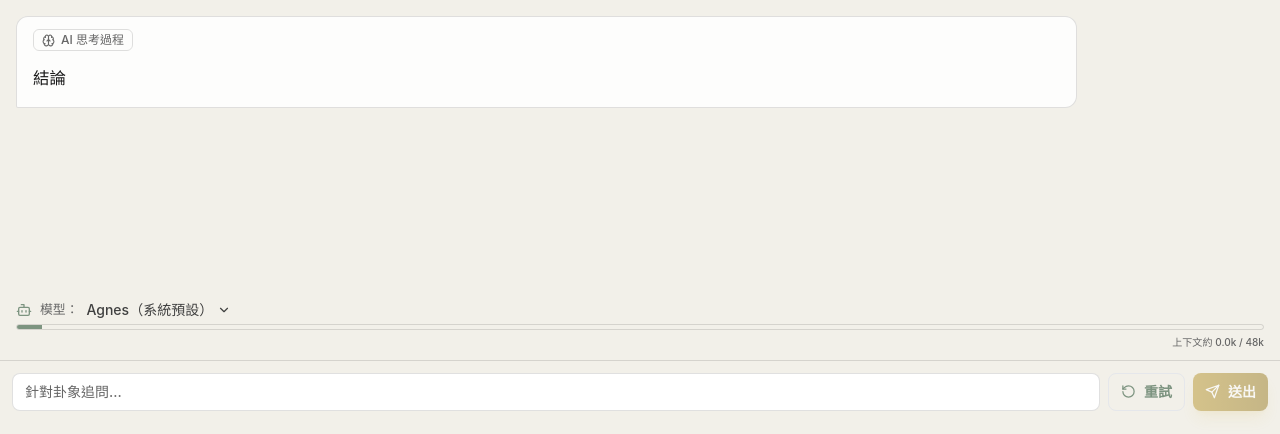
it: ThreadPanel（Ticket 08） › think 區塊可摺疊切換
The image size is (1280, 434).
Expected: the text "隱藏的推理" is not shown
Click the button "AI 思考過程" at (83, 40), box [33,29,133,51]
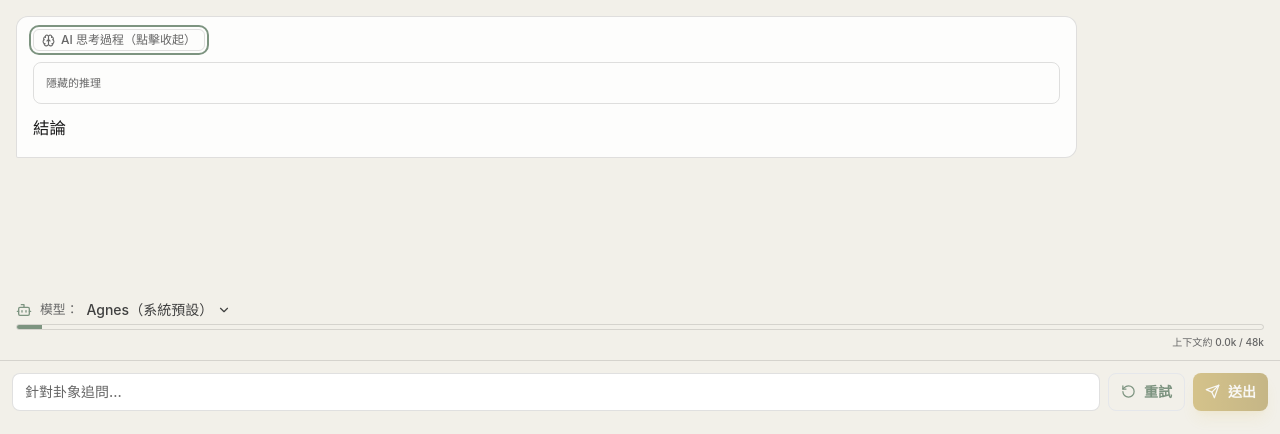
Result: the text "隱藏的推理" is shown at [33,62,1060,104]
